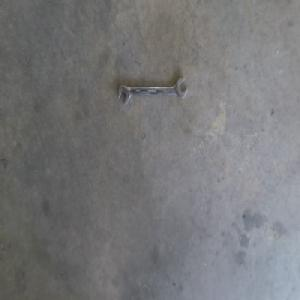Wrench: (117, 77, 189, 106)
